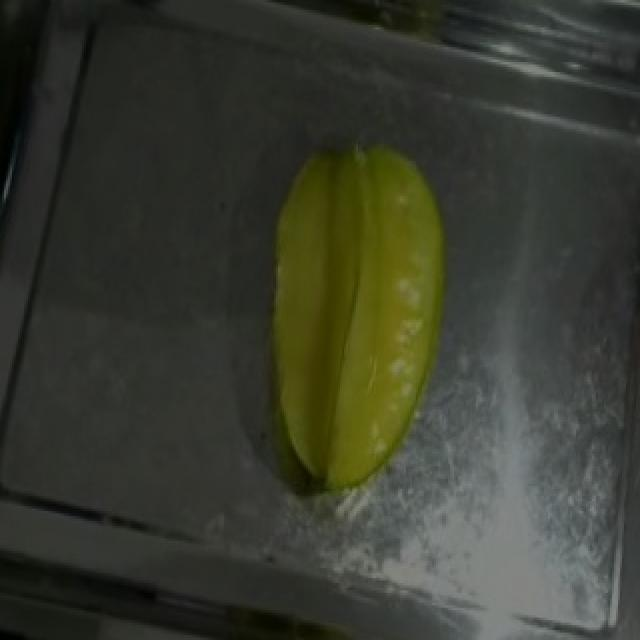fruit: (240, 109, 496, 516)
